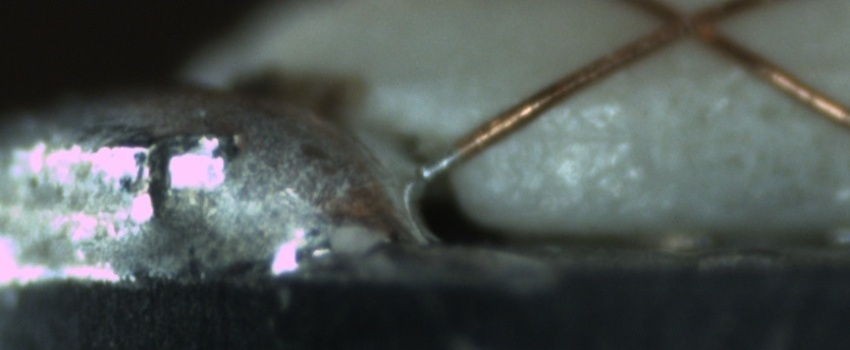CL: (649, 1, 735, 48)
DL: (498, 105, 639, 169)
TS: (424, 149, 460, 180)
